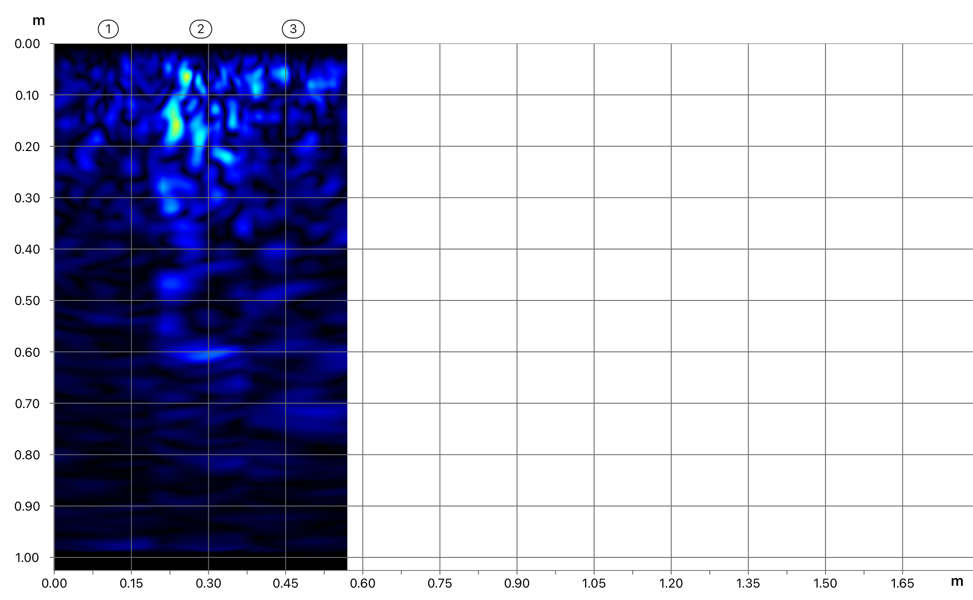crop: (1, 0, 348, 325)
